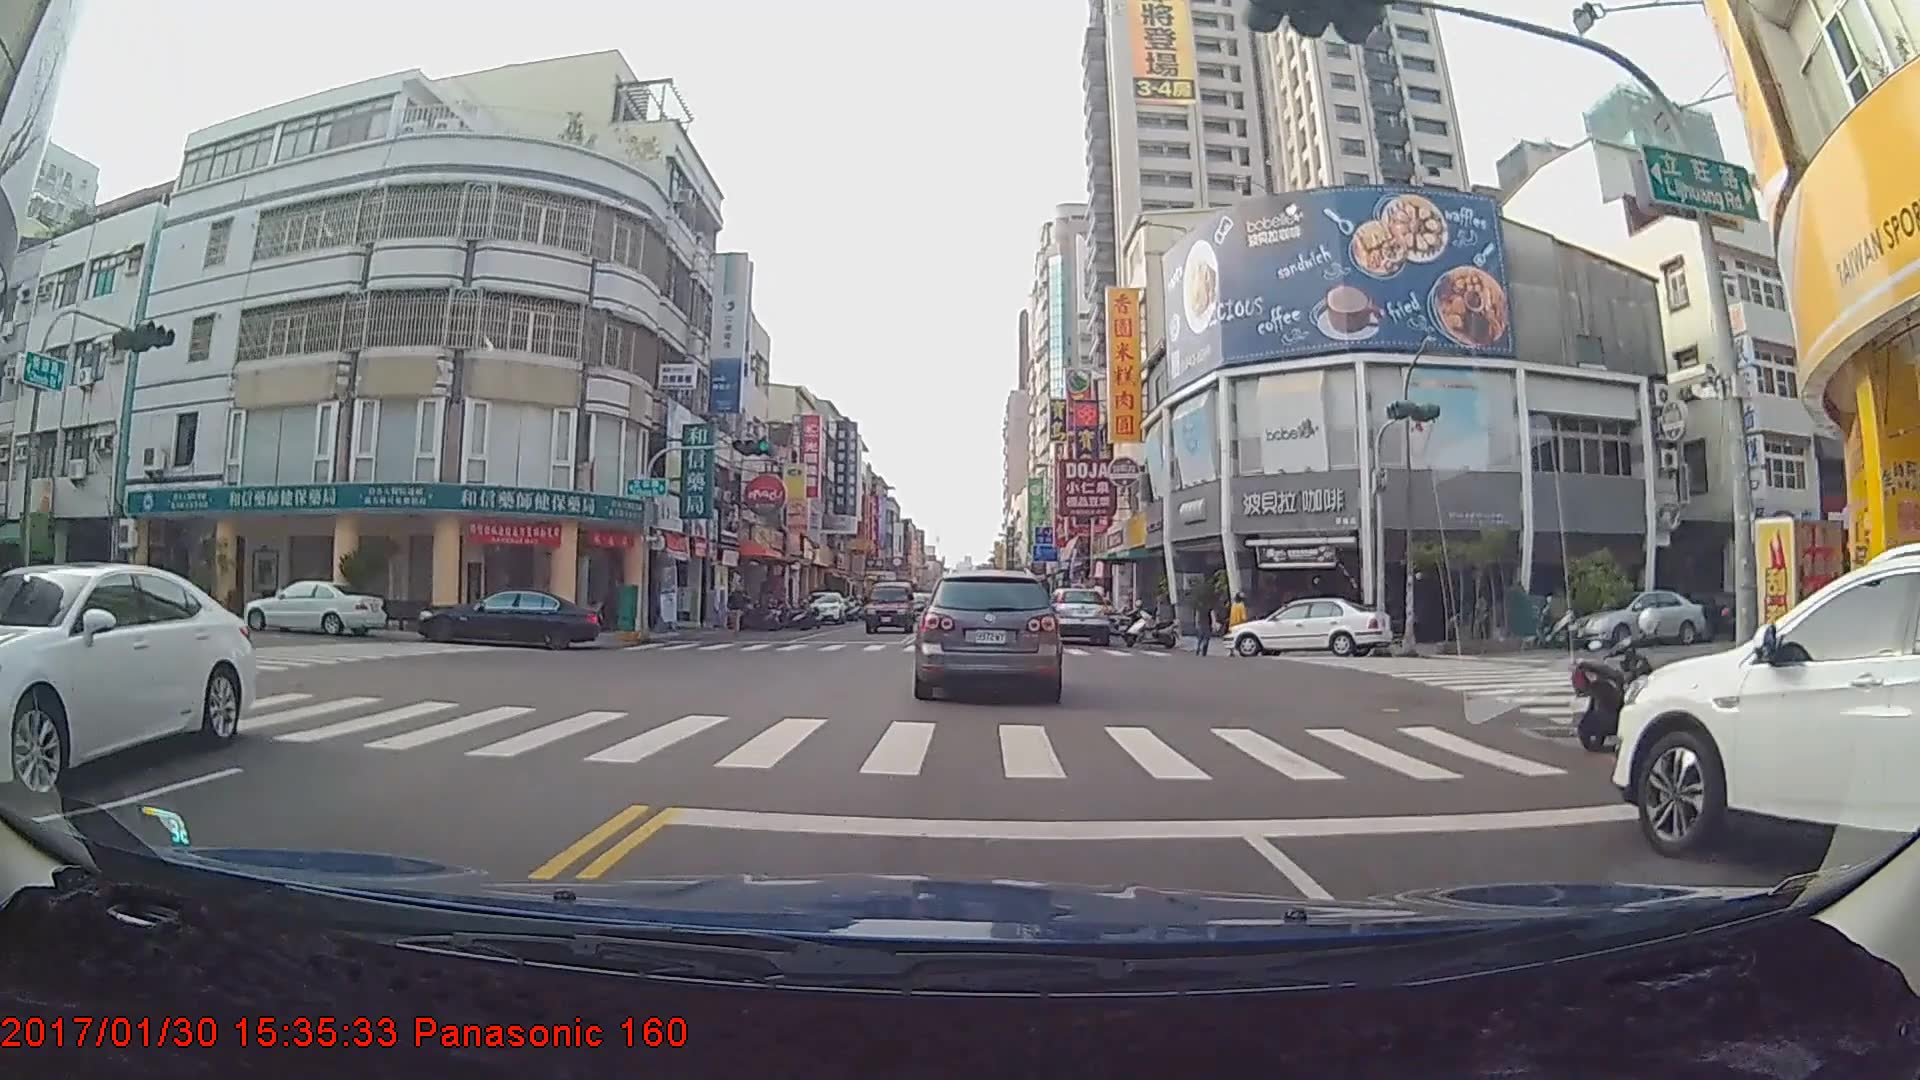pedestrian: (1193, 594, 1221, 657), (1230, 592, 1250, 652), (728, 584, 748, 641)
vehicle: (1611, 543, 1919, 930), (0, 559, 251, 808), (913, 568, 1060, 698), (412, 577, 599, 639), (1225, 594, 1392, 658), (241, 579, 387, 637), (1569, 588, 1705, 649), (1040, 583, 1111, 645), (863, 577, 914, 631), (799, 589, 845, 624)
